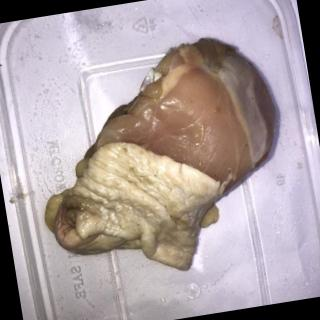Ayam: (20, 28, 300, 293)
